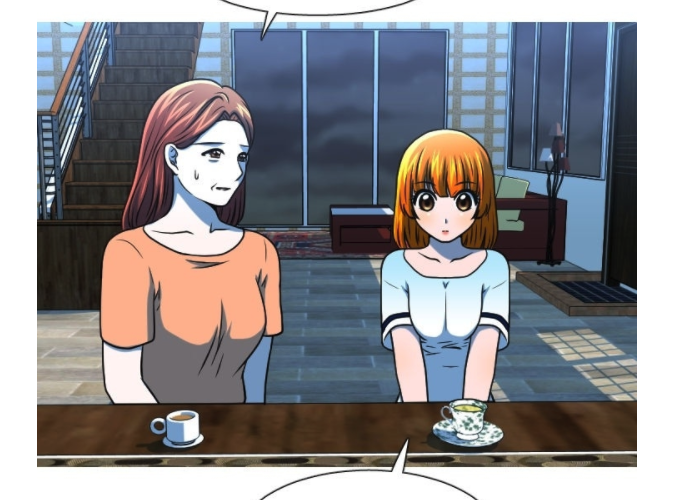coffee: (148, 406, 205, 450)
cup: (439, 395, 489, 444), (148, 406, 205, 448)
